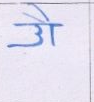o_matra: (43, 10, 58, 46)
